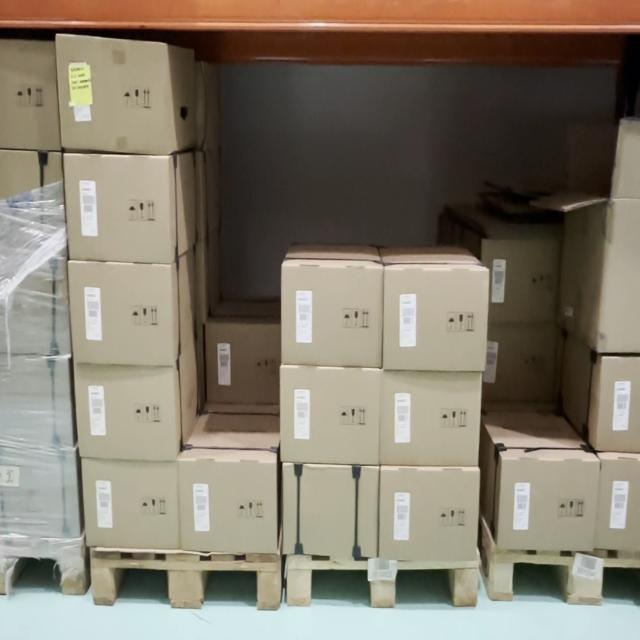box: (56, 33, 193, 150), (69, 157, 171, 262), (72, 264, 174, 362), (385, 271, 484, 368), (497, 458, 599, 552), (282, 268, 382, 362), (281, 370, 379, 465), (78, 366, 175, 458), (383, 372, 477, 465), (180, 465, 276, 554), (382, 472, 476, 559), (86, 461, 179, 546), (285, 468, 379, 552), (0, 447, 80, 536), (0, 148, 66, 255), (0, 38, 60, 152), (0, 257, 70, 354), (484, 232, 559, 322), (0, 357, 73, 449), (599, 200, 640, 353), (482, 322, 557, 404), (207, 323, 281, 402), (595, 457, 640, 551), (596, 357, 640, 453)
